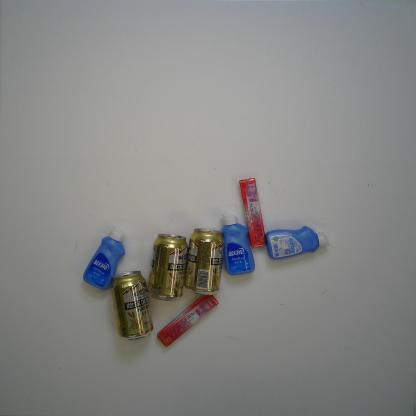Alcohol: (110, 271, 154, 342), (147, 232, 189, 302), (184, 228, 225, 296)
Candy: (157, 294, 219, 348), (239, 177, 266, 248)
Personal Hygiene: (82, 226, 126, 290), (220, 212, 256, 276), (265, 225, 329, 260)
